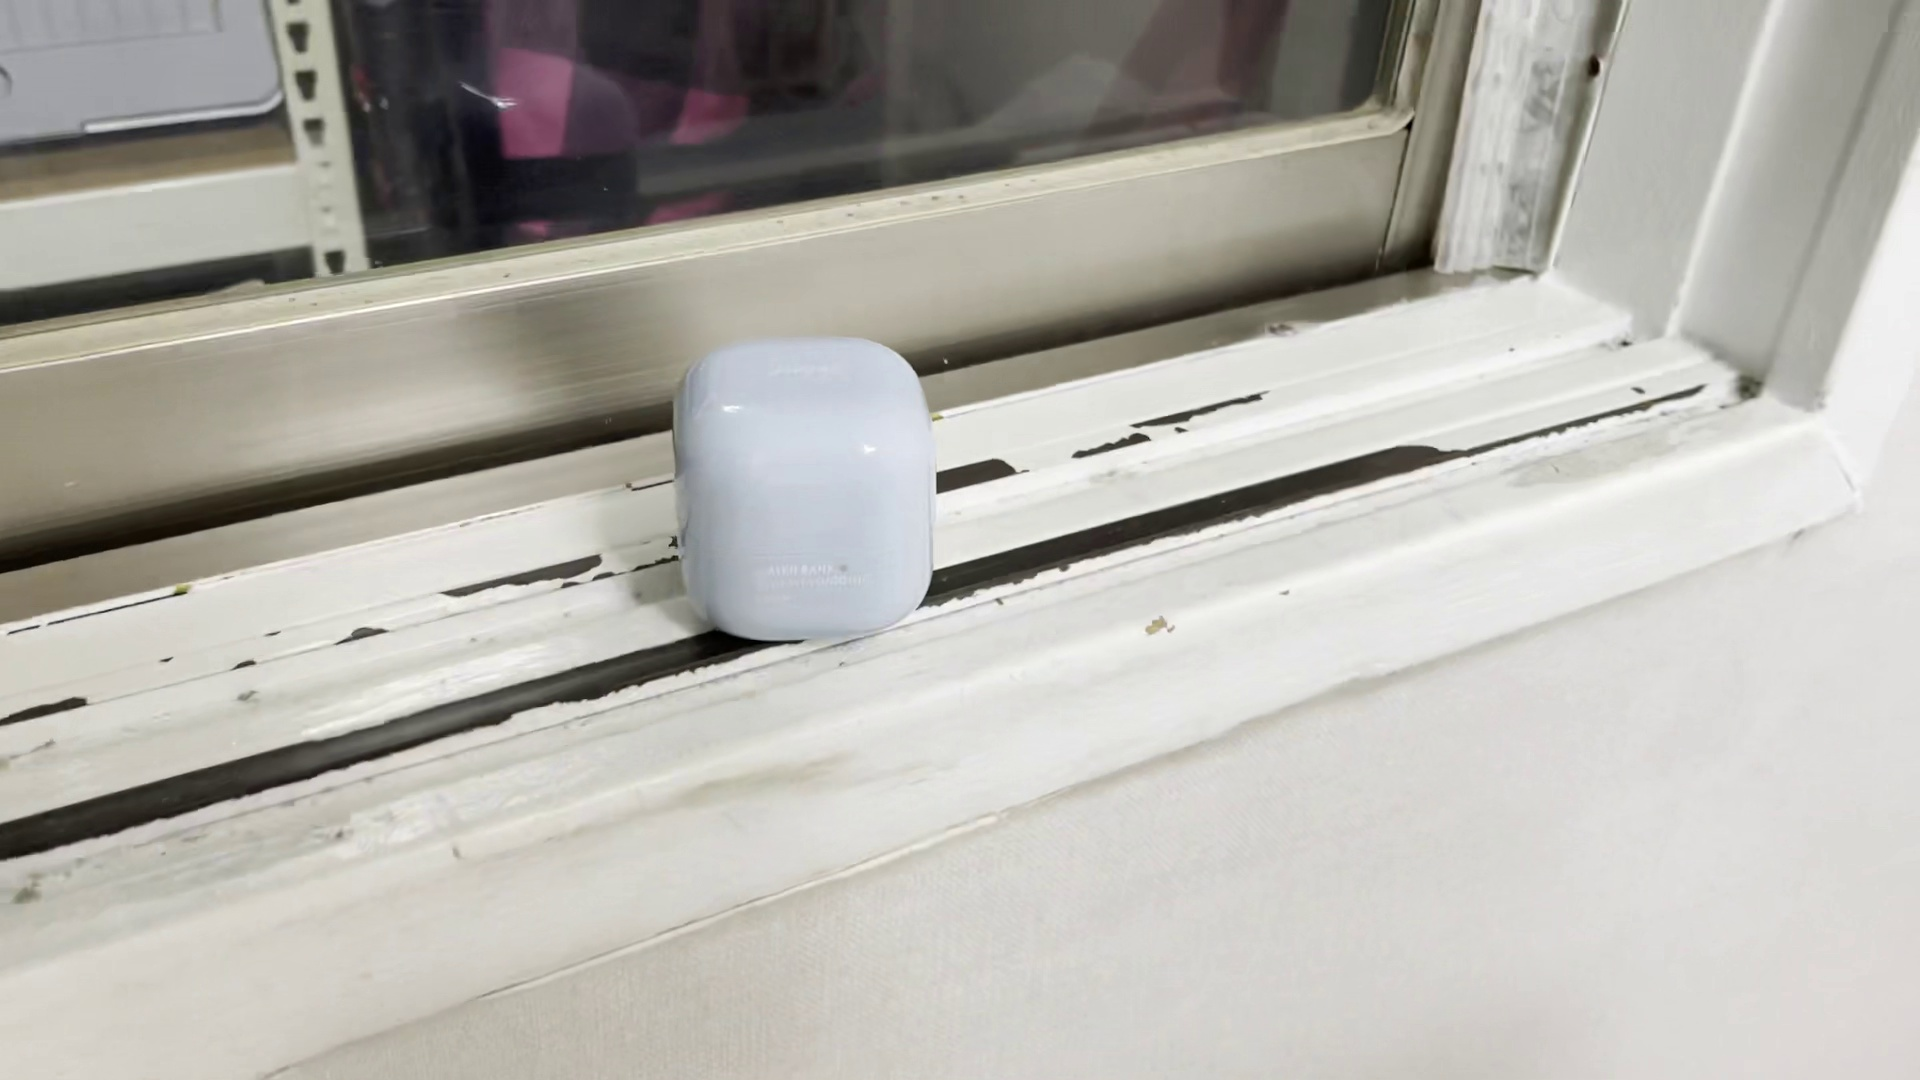cream: (671, 335, 936, 644)
